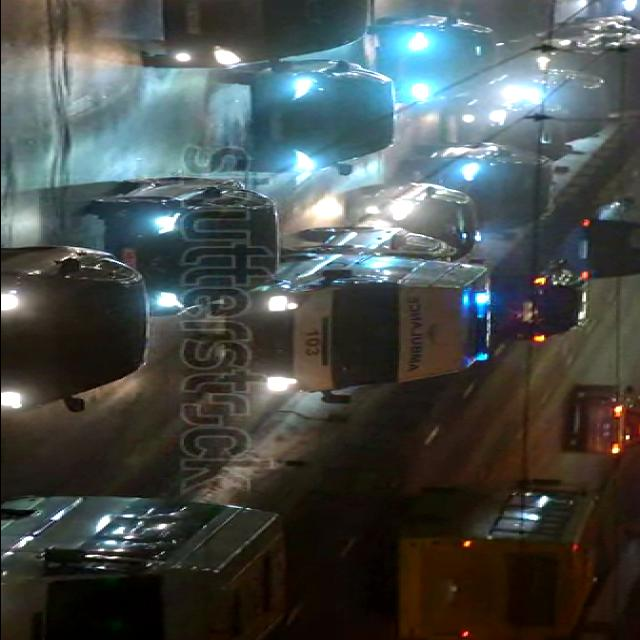ambulance: (212, 254, 492, 406)
